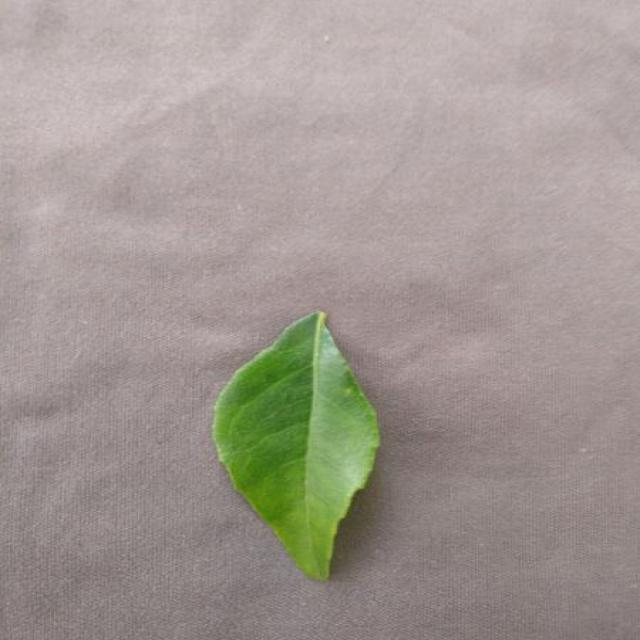curry: (213, 311, 380, 579)
